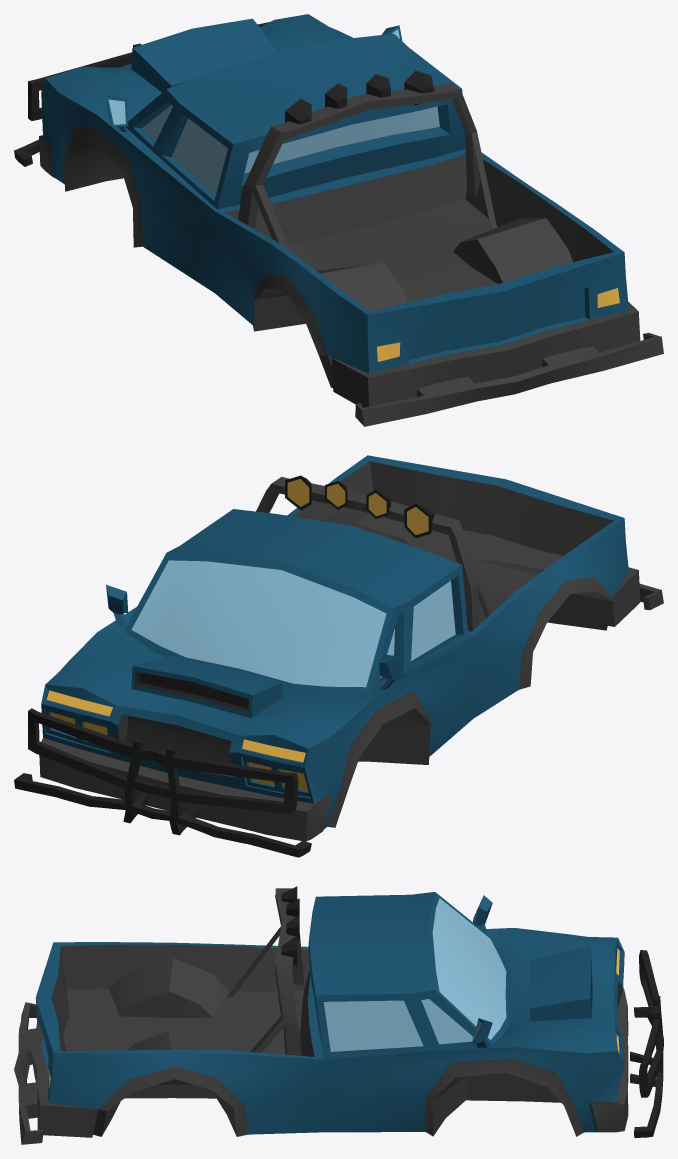
The model's file is truck_body2.glb.
The picture shows the model from 3 angles, top to bottom: view 1: azimuth 30°, elevation 25°; view 2: azimuth 150°, elevation 25°; view 3: azimuth 270°, elevation 25°; orthographic projection. The views are drawn at different scales.
Visible parts, largest first — view 1: truck_body; view 2: truck_body; view 3: truck_body.
Part boxes in pixels (left/top/right/bottom): truck_body: left=14, top=14, right=663, bottom=426; truck_body: left=14, top=455, right=663, bottom=857; truck_body: left=14, top=886, right=663, bottom=1144.
Size of the model in its own units: 1.5 by 0.957 by 3.19.
Materials: 1 (1 with a texture image).
